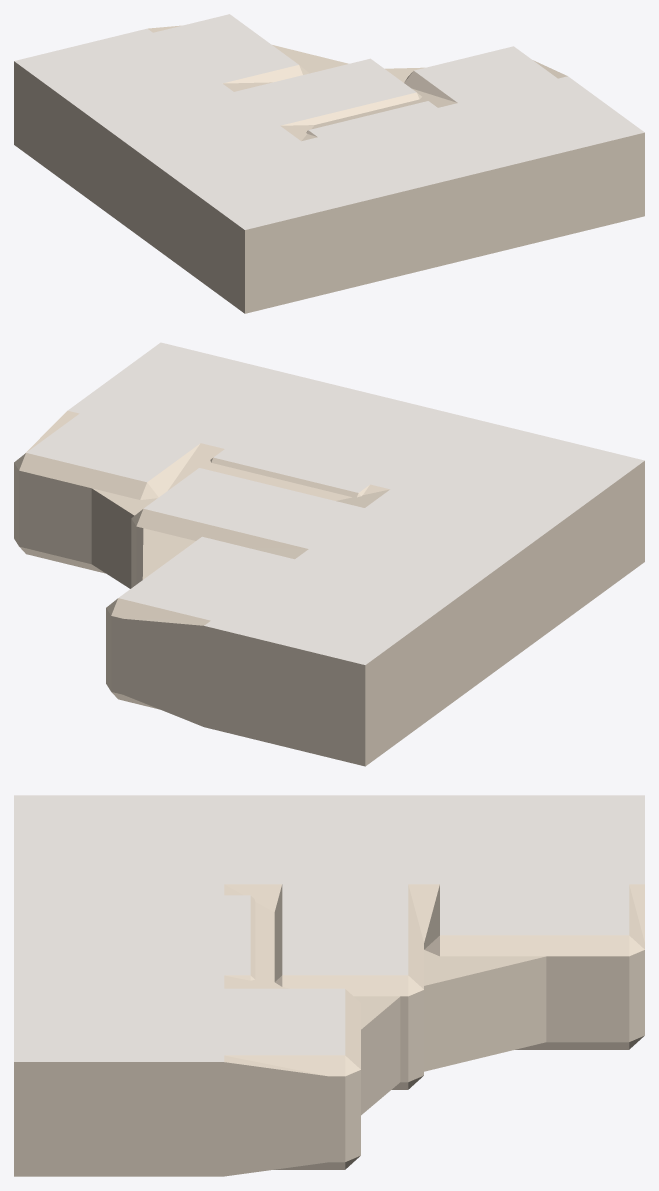
File: Floor_Ruined_Corner_Inner_2.glb
3 views of the same model, one above another, from view 1: azimuth 30°, elevation 25°; view 2: azimuth 150°, elevation 25°; view 3: azimuth 270°, elevation 25° (orthographic). The views are drawn at different scales.
Parts seen in each view (by area): view 1: Floor_Ruined_Corner_Inner_2; view 2: Floor_Ruined_Corner_Inner_2; view 3: Floor_Ruined_Corner_Inner_2.
Boxes of the visible parts, x1=… form: Floor_Ruined_Corner_Inner_2: x1=14, y1=14, x2=644, y2=313; Floor_Ruined_Corner_Inner_2: x1=14, y1=342, x2=644, y2=766; Floor_Ruined_Corner_Inner_2: x1=14, y1=795, x2=644, y2=1176.
Bounding box in the file's own units: 0.45 × 0.09 × 0.45.
